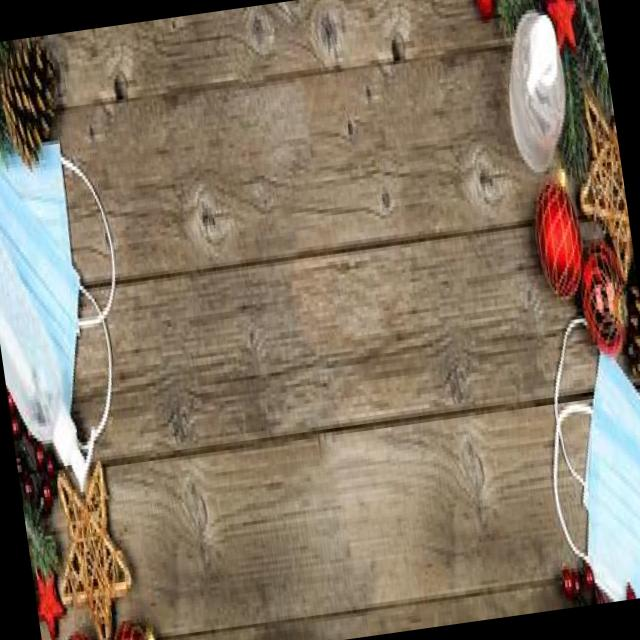sanitizer: (0, 207, 101, 497)
